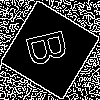B: (25, 25, 78, 69)
